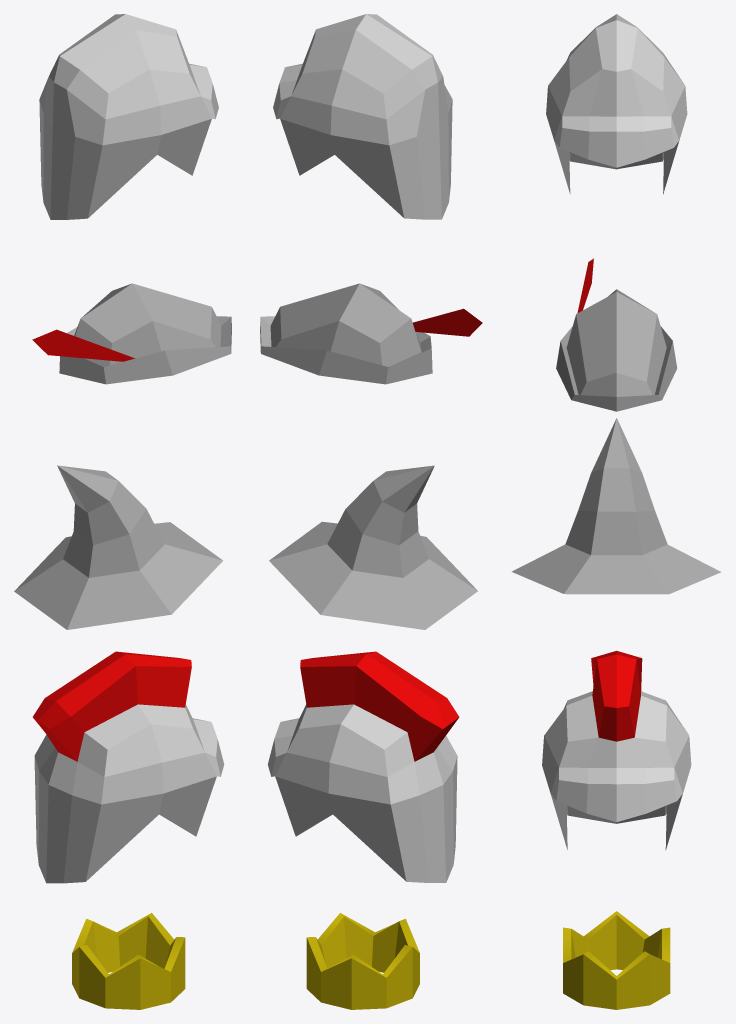
Rendered from LP_OrcHats.fbx.
The picture shows the model from 3 angles, left to right: view 1: azimuth 30°, elevation 25°; view 2: azimuth 150°, elevation 25°; view 3: azimuth 270°, elevation 25°; orthographic projection.
Visible parts, largest first — view 1: pCube15, pCube26, pasted__pCone5, pCube22, pPipe2; view 2: pCube15, pCube26, pasted__pCone5, pCube22, pPipe2; view 3: pCube15, pCube26, pasted__pCone5, pCube22, pPipe2.
Boxes of the visible parts, left/top/right/bottom form: pCube15: left=33, top=651, right=224, bottom=883; pCube26: left=39, top=14, right=218, bottom=219; pasted__pCone5: left=14, top=465, right=222, bottom=629; pCube22: left=32, top=283, right=231, bottom=384; pPipe2: left=72, top=913, right=185, bottom=1009; pCube15: left=267, top=651, right=459, bottom=882; pCube26: left=273, top=14, right=452, bottom=219; pasted__pCone5: left=269, top=465, right=477, bottom=629; pCube22: left=260, top=283, right=482, bottom=384; pPipe2: left=306, top=913, right=419, bottom=1009; pCube15: left=542, top=650, right=691, bottom=850; pCube26: left=546, top=14, right=687, bottom=194; pasted__pCone5: left=511, top=418, right=721, bottom=594; pCube22: left=556, top=258, right=677, bottom=411; pPipe2: left=563, top=911, right=670, bottom=1009.
Bounding box in the file's own units: 1 × 4.4 × 0.8698.
